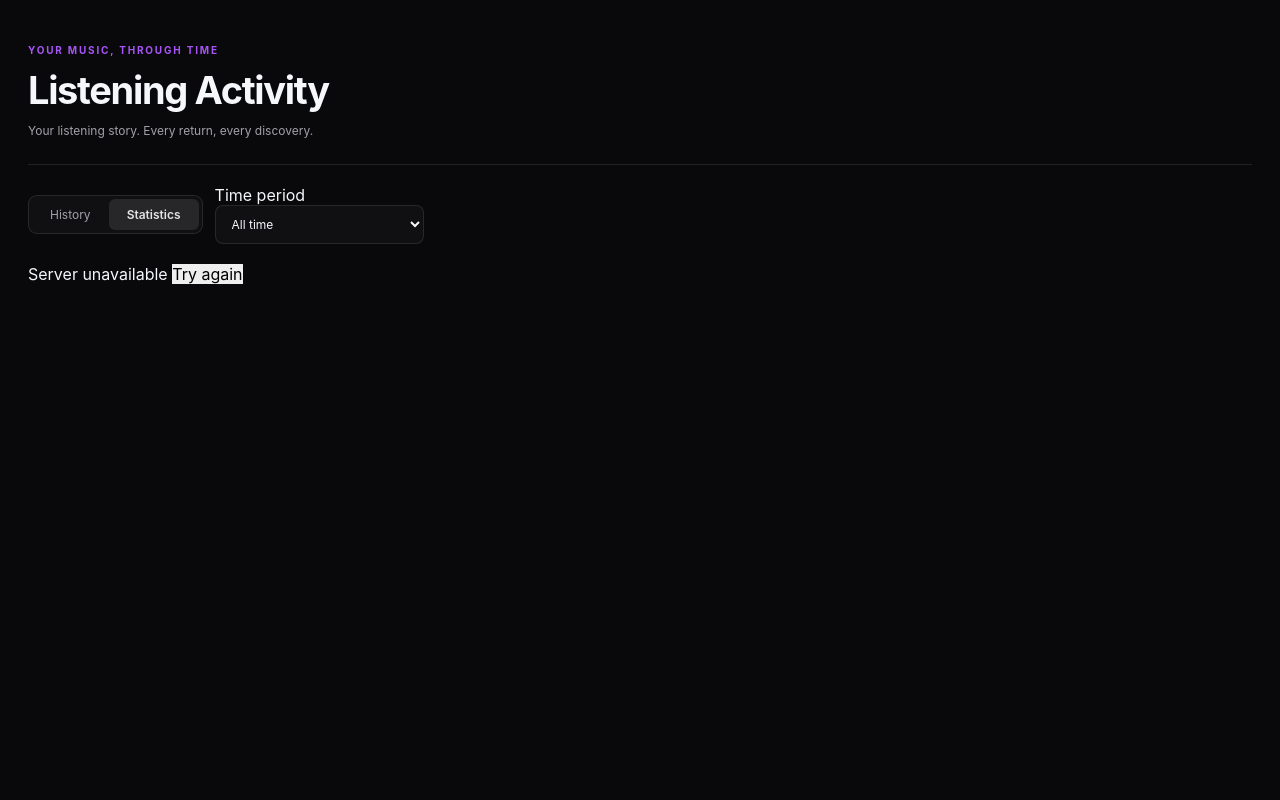
Scenario: statistics deep link loads statistics directly and exposes retryable errors
The image size is (1280, 800).
Expected: the text "Server unavailable" is shown, [28,264,168,284]
Click the button "Try again".
click(207, 274)  # box [172,264,242,284]
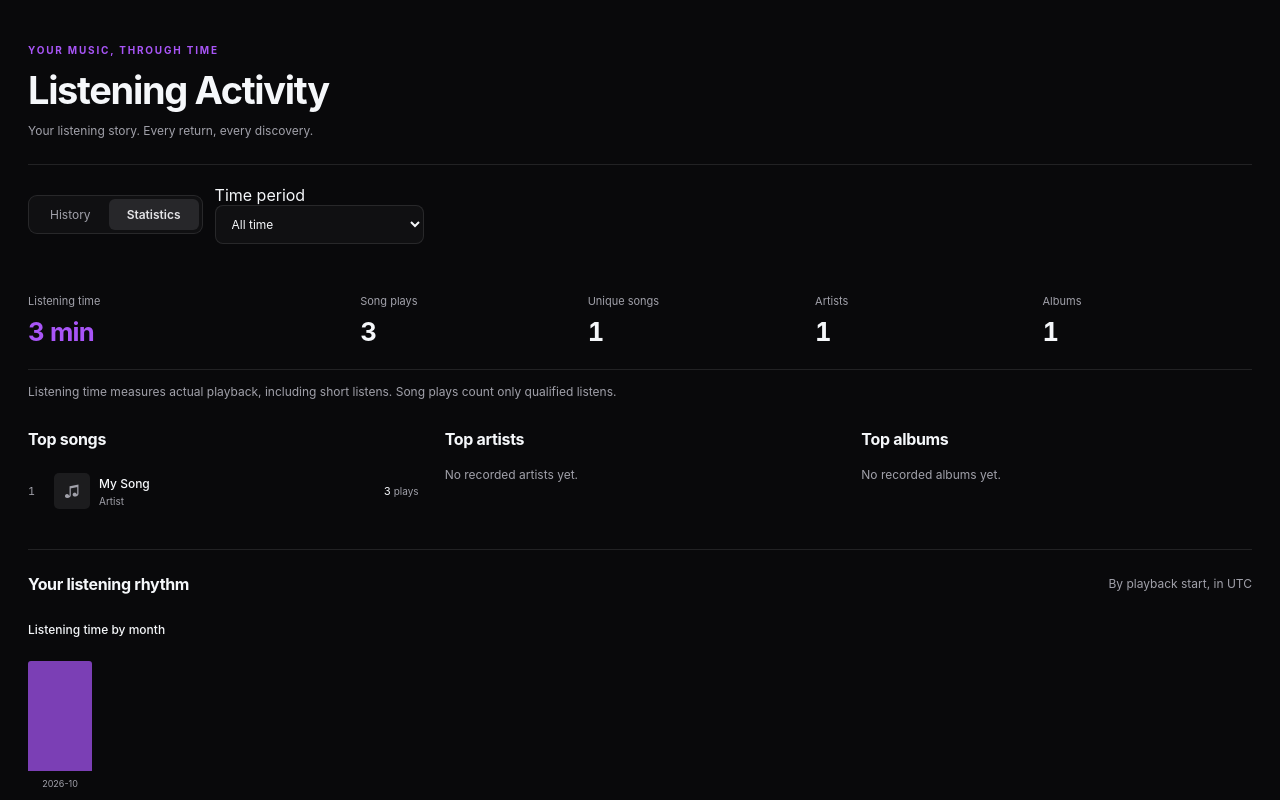
Now the text "Listening time" is shown, box [28,294,100,308]
